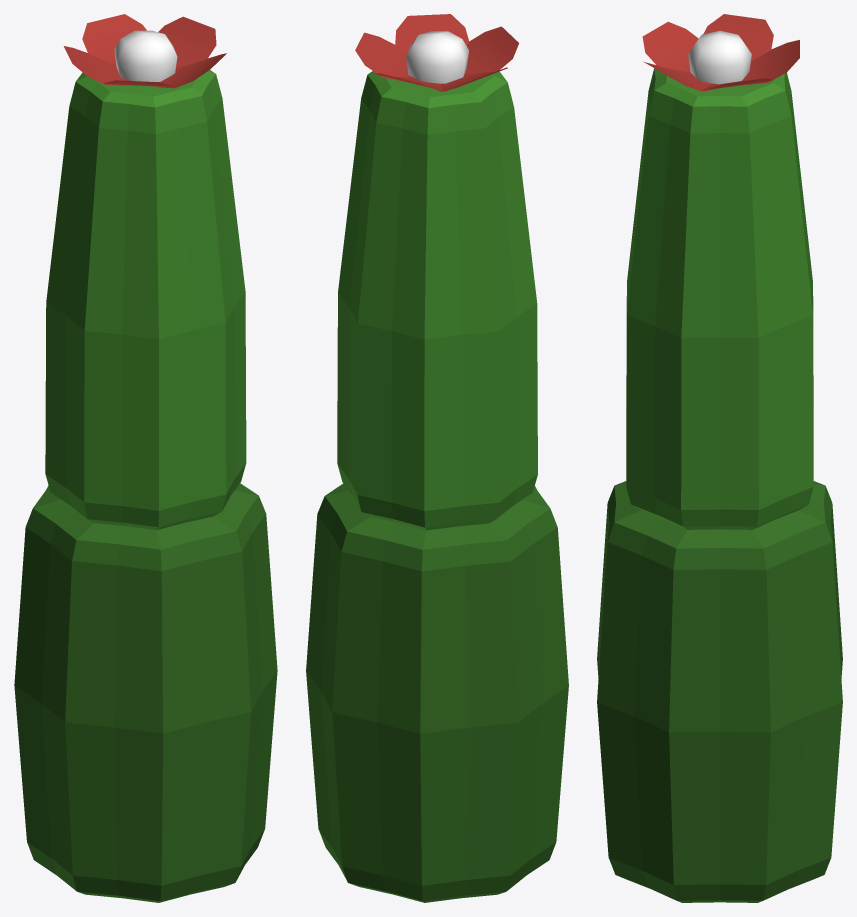
The model's file is Cactus_10_A.fbx.
The picture shows the model from 3 angles, left to right: view 1: azimuth 30°, elevation 25°; view 2: azimuth 150°, elevation 25°; view 3: azimuth 270°, elevation 25°; orthographic projection.
Visible parts, largest first — view 1: Cactus_10_A; view 2: Cactus_10_A; view 3: Cactus_10_A.
Part boxes in pixels (x1=…): Cactus_10_A: x1=14, y1=14, x2=277, y2=902; Cactus_10_A: x1=306, y1=14, x2=568, y2=902; Cactus_10_A: x1=597, y1=14, x2=842, y2=902.
Bounding box in the file's own units: 45.19 × 168 × 45.24.
